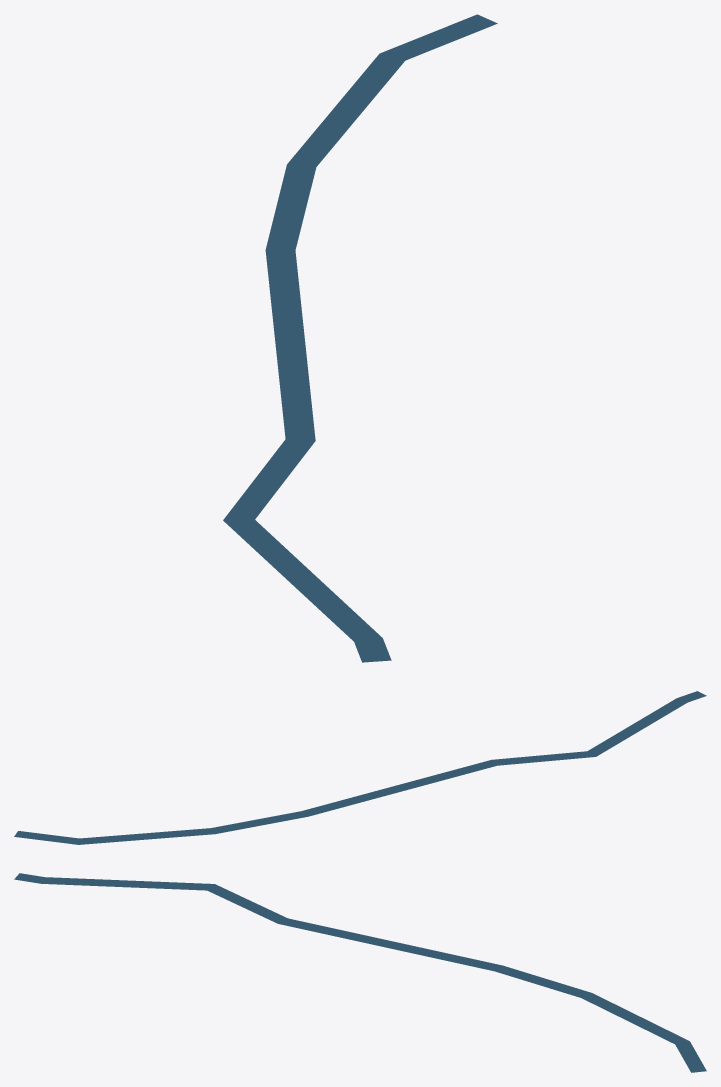
3 renders of one model, top to bottom at view 1: azimuth 30°, elevation 25°; view 2: azimuth 150°, elevation 25°; view 3: azimuth 270°, elevation 25°, orthographic. The views are drawn at different scales.
Visible parts, largest first — view 1: water; view 2: water; view 3: water.
Boxes of the visible parts, left/top/right/bottom form: water: left=223, top=14, right=497, bottom=662; water: left=14, top=691, right=706, bottom=844; water: left=14, top=873, right=706, bottom=1072.
Bounding box in the file's own units: 73.02 × 0 × 107.
